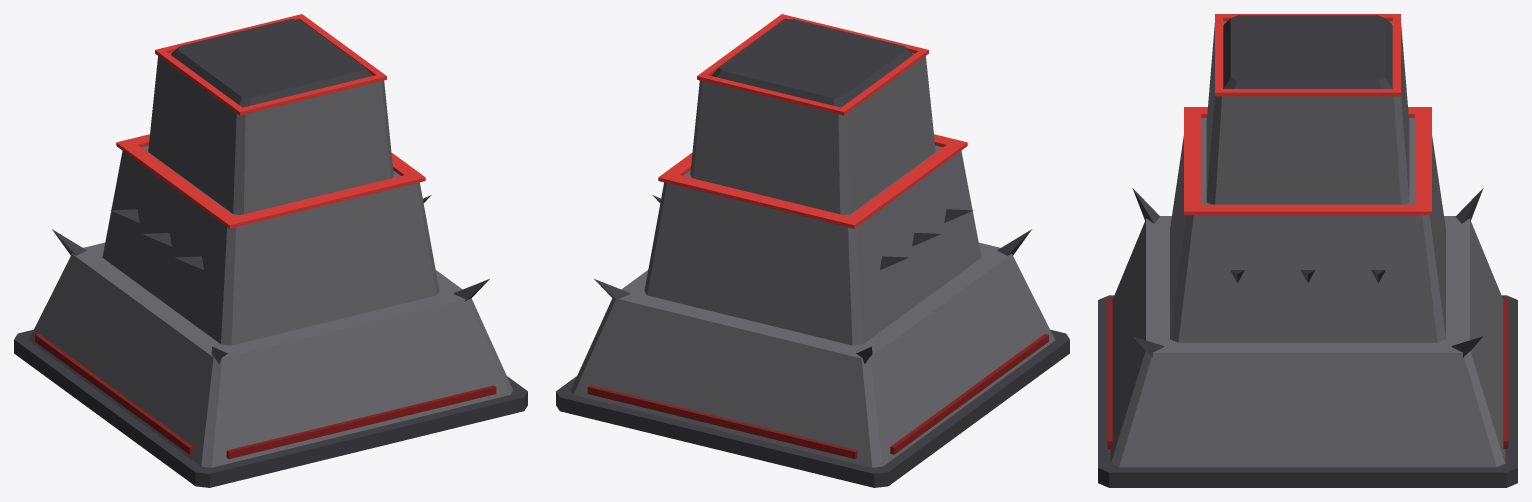
The model's file is void_monolith_d.obj.
The picture shows the model from 3 angles, left to right: view 1: azimuth 30°, elevation 25°; view 2: azimuth 150°, elevation 25°; view 3: azimuth 270°, elevation 25°; orthographic projection. The views are drawn at different scales.
Parts seen in each view (by area): view 1: void_monolith_d_1, void_monolith_d_2, void_monolith_d_3, void_monolith_d_0, void_monolith_d_4, void_monolith_d_13, void_monolith_d_9, void_monolith_d_12, void_monolith_d_15, void_monolith_d_5, void_monolith_d_8, void_monolith_d_6; view 2: void_monolith_d_1, void_monolith_d_2, void_monolith_d_3, void_monolith_d_0, void_monolith_d_4, void_monolith_d_14, void_monolith_d_11, void_monolith_d_12, void_monolith_d_15, void_monolith_d_7, void_monolith_d_8, void_monolith_d_6; view 3: void_monolith_d_1, void_monolith_d_2, void_monolith_d_3, void_monolith_d_4, void_monolith_d_0, void_monolith_d_10, void_monolith_d_9, void_monolith_d_11, void_monolith_d_6, void_monolith_d_13, void_monolith_d_14, void_monolith_d_5 (+2 smaller).
Boxes of the visible parts, <box> form: void_monolith_d_1: <box>28,242,513,467</box>; void_monolith_d_2: <box>102,145,439,345</box>; void_monolith_d_3: <box>148,53,393,214</box>; void_monolith_d_0: <box>14,329,527,487</box>; void_monolith_d_4: <box>171,19,372,107</box>; void_monolith_d_13: <box>226,385,496,458</box>; void_monolith_d_9: <box>229,175,425,228</box>; void_monolith_d_12: <box>116,142,234,228</box>; void_monolith_d_15: <box>35,334,193,454</box>; void_monolith_d_5: <box>240,75,386,115</box>; void_monolith_d_8: <box>155,50,242,115</box>; void_monolith_d_6: <box>299,14,386,75</box>; void_monolith_d_1: <box>570,242,1055,467</box>; void_monolith_d_2: <box>644,145,981,345</box>; void_monolith_d_3: <box>690,53,935,214</box>; void_monolith_d_0: <box>556,329,1069,487</box>; void_monolith_d_4: <box>711,19,912,107</box>; void_monolith_d_14: <box>587,385,857,458</box>; void_monolith_d_11: <box>658,175,854,228</box>; void_monolith_d_12: <box>849,142,967,228</box>; void_monolith_d_15: <box>890,334,1048,454</box>; void_monolith_d_7: <box>697,75,843,115</box>; void_monolith_d_8: <box>841,50,928,115</box>; void_monolith_d_6: <box>697,14,784,75</box>; void_monolith_d_1: <box>1110,216,1505,467</box>; void_monolith_d_2: <box>1170,118,1445,342</box>; void_monolith_d_3: <box>1206,21,1409,204</box>; void_monolith_d_4: <box>1223,15,1392,88</box>; void_monolith_d_0: <box>1098,295,1517,487</box>; void_monolith_d_10: <box>1184,204,1431,215</box>; void_monolith_d_9: <box>1184,107,1200,211</box>; void_monolith_d_11: <box>1415,107,1431,211</box>; void_monolith_d_6: <box>1215,89,1400,96</box>; void_monolith_d_13: <box>1107,298,1112,448</box>; void_monolith_d_14: <box>1503,298,1508,448</box>; void_monolith_d_5: <box>1215,14,1223,92</box>.
Size of the model in its own units: 2.98 by 2.75 by 2.98.
